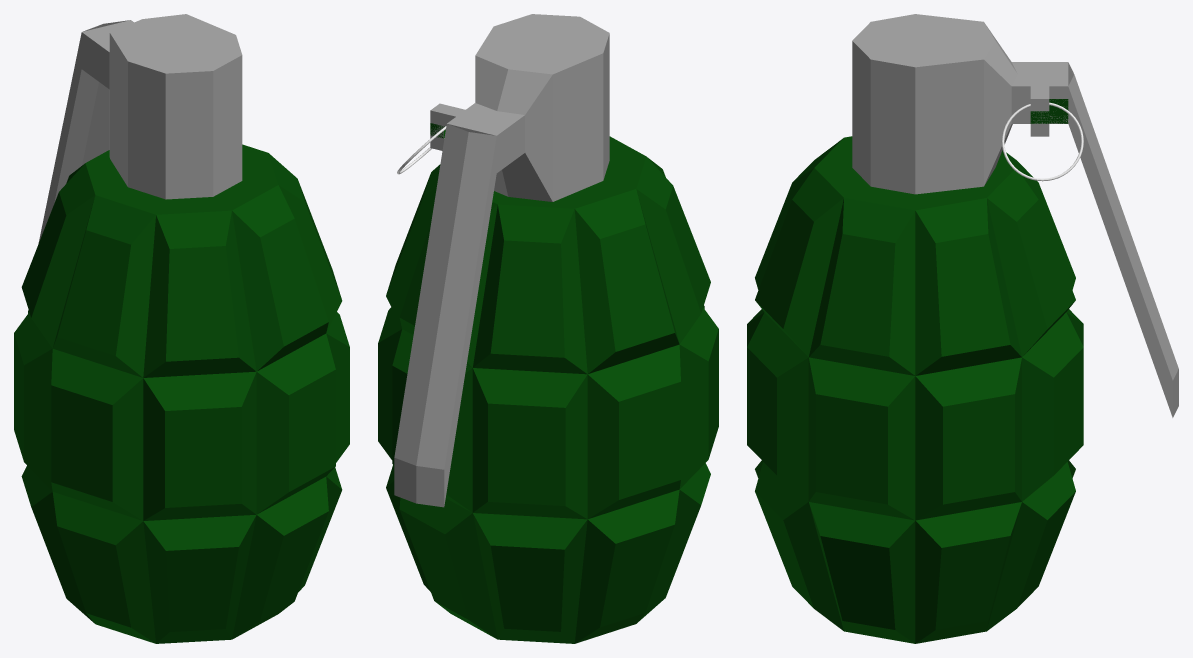
Rendered from Granat.fbx.
The picture shows the model from 3 angles, left to right: view 1: azimuth 30°, elevation 25°; view 2: azimuth 150°, elevation 25°; view 3: azimuth 270°, elevation 25°; orthographic projection.
Visible parts, largest first — view 1: Walec; view 2: Walec; view 3: Walec.
Part boxes in pixels (x1,y1,x2,y2): Walec: (14, 14, 349, 643); Walec: (378, 14, 718, 643); Walec: (747, 14, 1178, 643).
Size of the model in its own units: 127 by 234 by 163.
